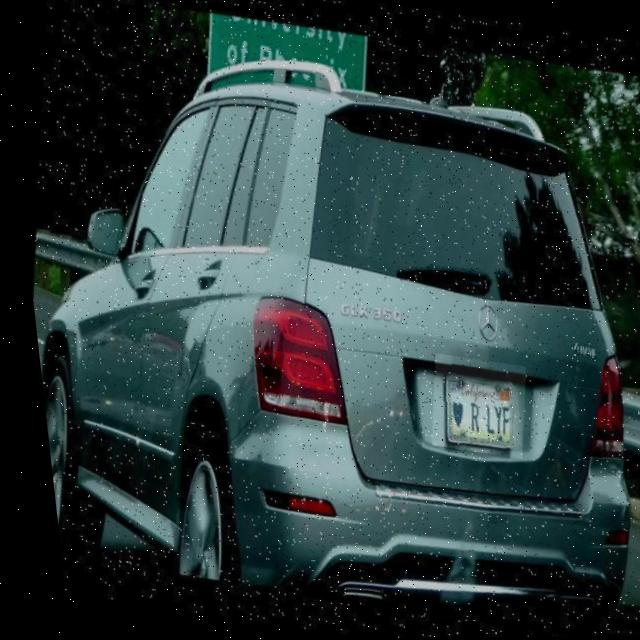LicensePlate: (413, 354, 526, 460)
